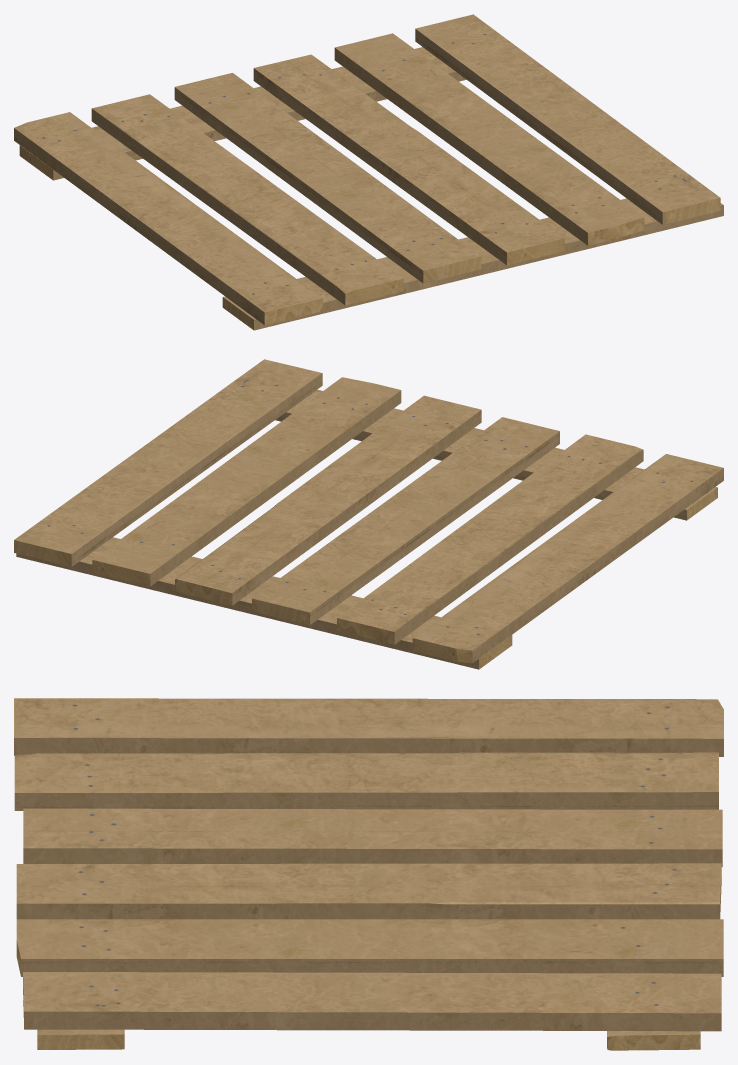
Rendered from SM_Decking_Wooden.FBX.
3 views of the same model, one above another, from view 1: azimuth 30°, elevation 25°; view 2: azimuth 150°, elevation 25°; view 3: azimuth 270°, elevation 25° (orthographic). The views are drawn at different scales.
Parts seen in each view (by area): view 1: SM_Decking_Wooden; view 2: SM_Decking_Wooden; view 3: SM_Decking_Wooden.
Part boxes in pixels (x1=…): SM_Decking_Wooden: x1=14, y1=14, x2=723, y2=330; SM_Decking_Wooden: x1=14, y1=359, x2=723, y2=669; SM_Decking_Wooden: x1=14, y1=698, x2=723, y2=1050.
Bounding box in the file's own units: 115 × 107 × 5.5.
